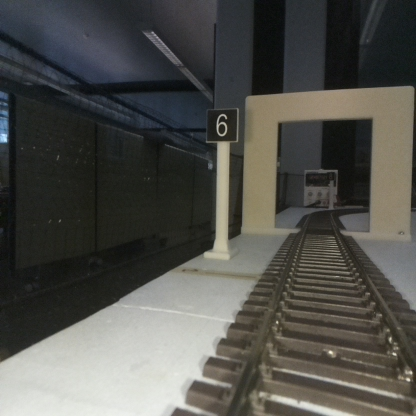black-info-6: (206, 110, 237, 257)
